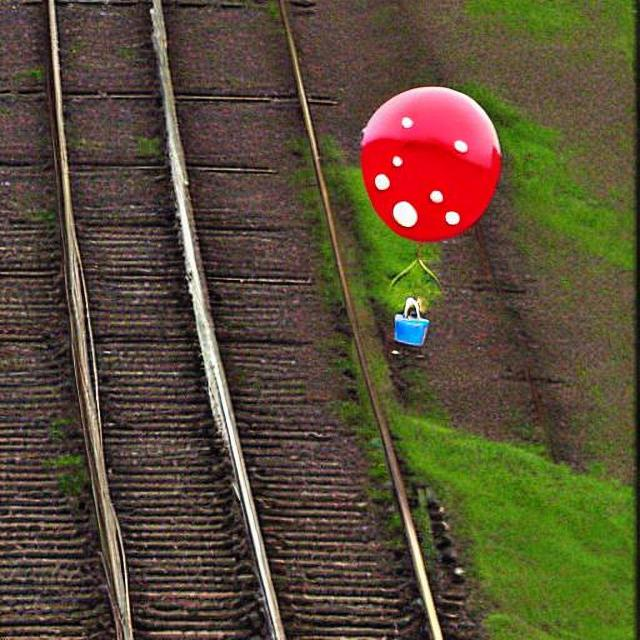balloon: (355, 83, 509, 242)
